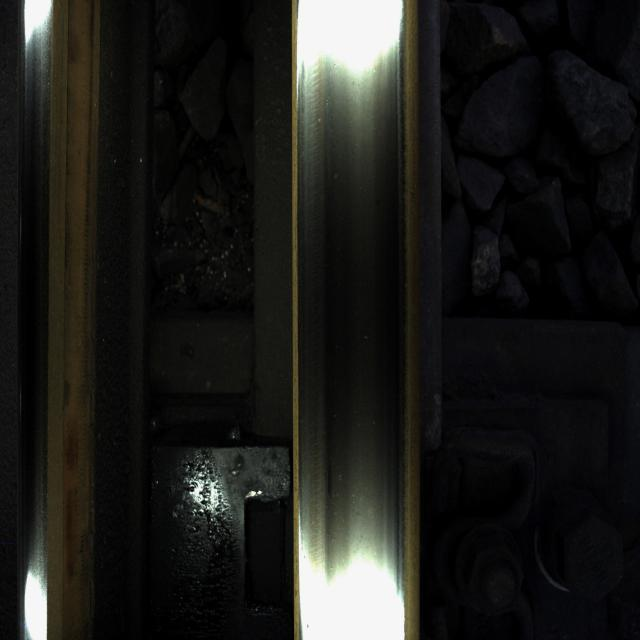break: (296, 19, 412, 625)
